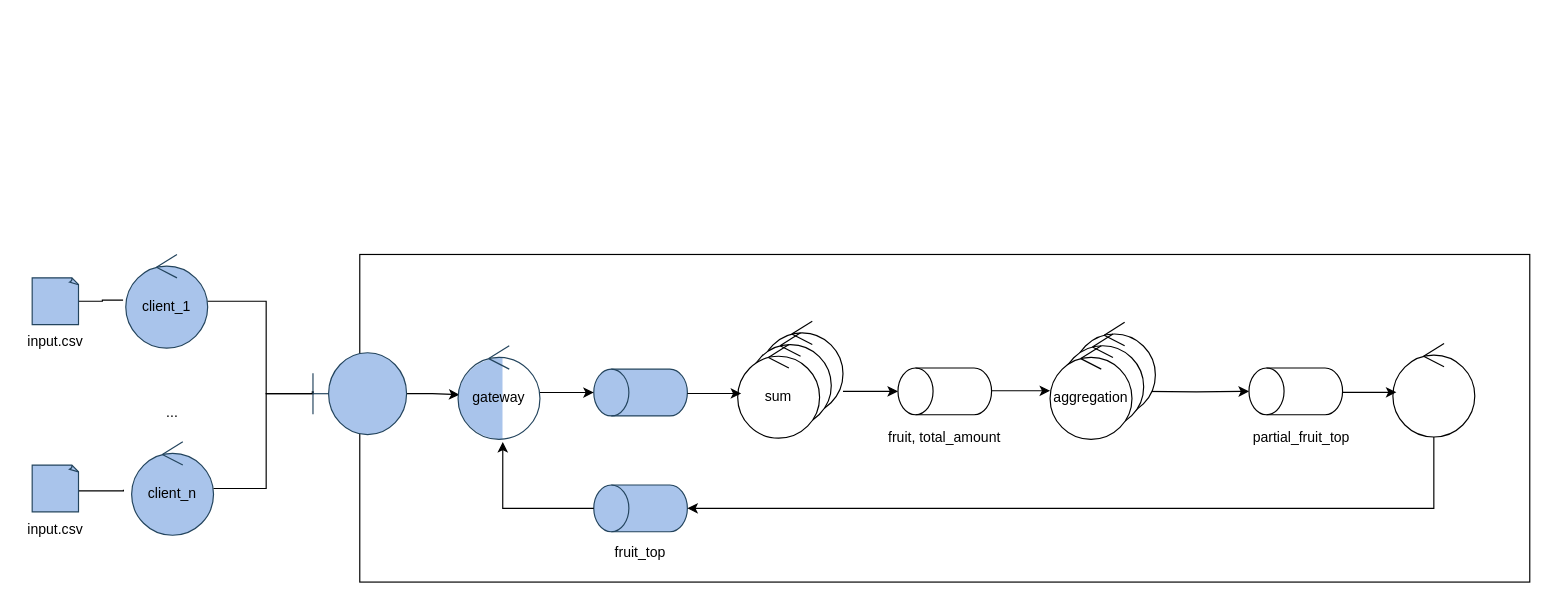
Some shapes in this 1550 by 603 pixel diagram are drawn without their labels. The shapes that lost their labels are listed below. From the top down, each one's box as (x1, y1, x2, y2) in pixels, then its label:
(312, 352, 407, 435): Socket TCP/IP
(593, 368, 687, 416): fruit, amount
(1392, 342, 1475, 437): join
